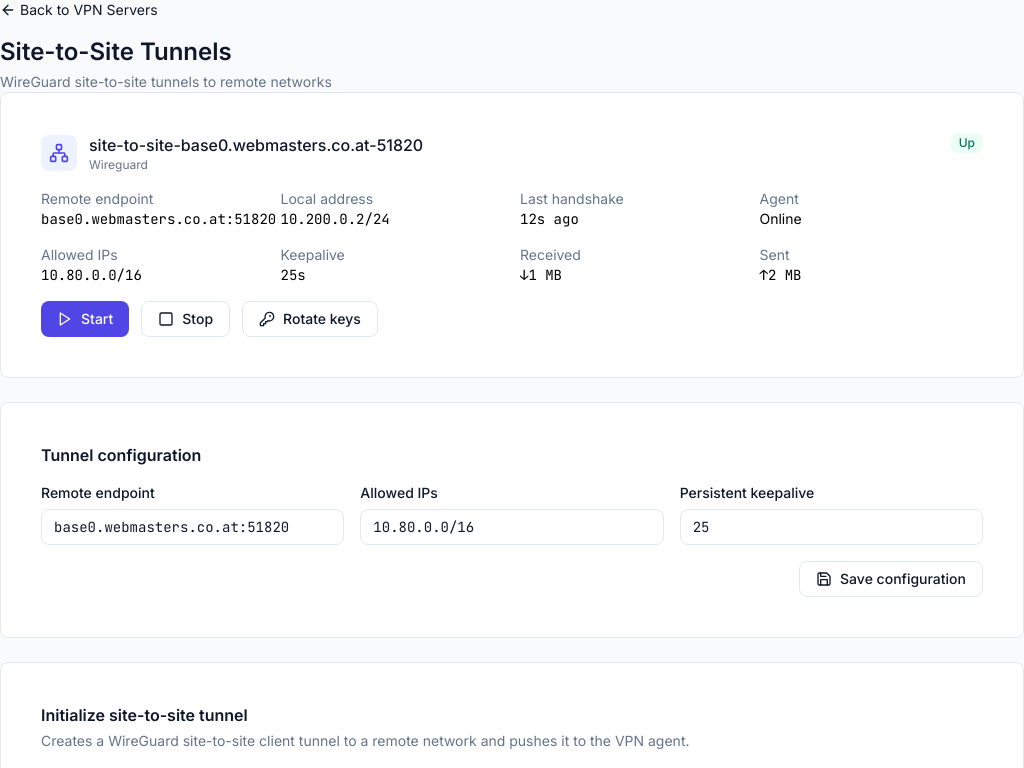
SiteToSite rotate keys › POSTs regenerate and shows the new public key
The image size is (1024, 768).
Expected: the text "site-to-site-base0.webmasters.co.at-51820" is shown, [89, 133, 423, 157]
Click the button "Rotate keys" at (310, 319), box [242, 301, 378, 337]
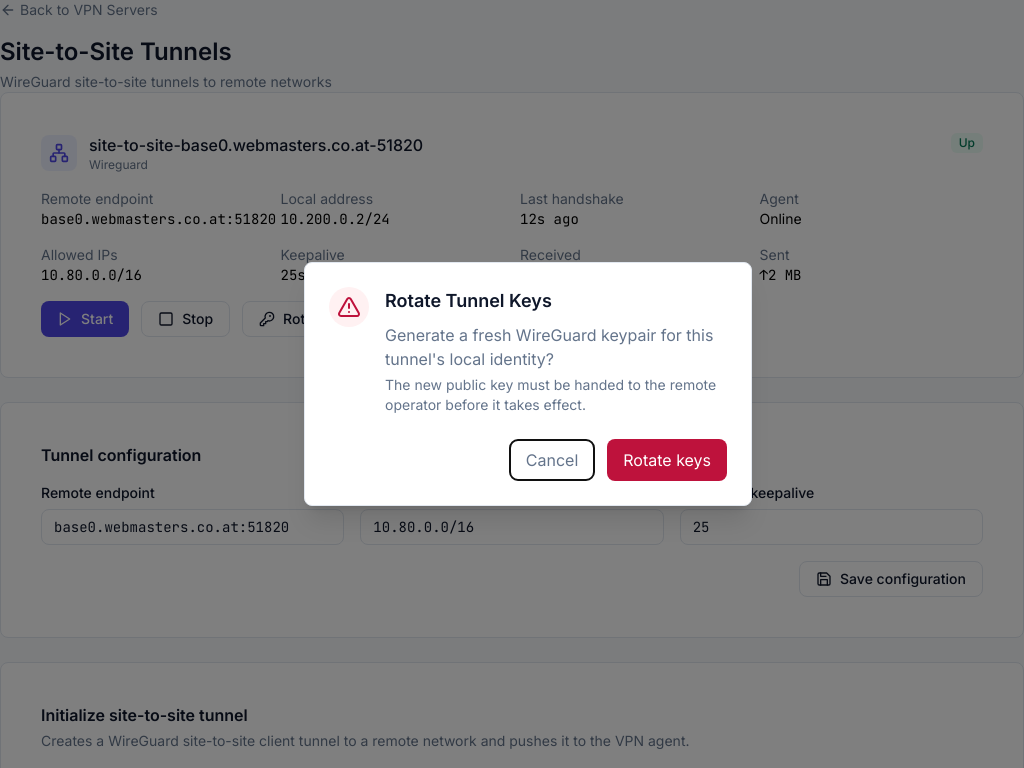
Now the text "handed to the remote operator" is shown, box [385, 376, 716, 413]
Click the button "Rotate keys" at (667, 460), box [607, 439, 727, 481]
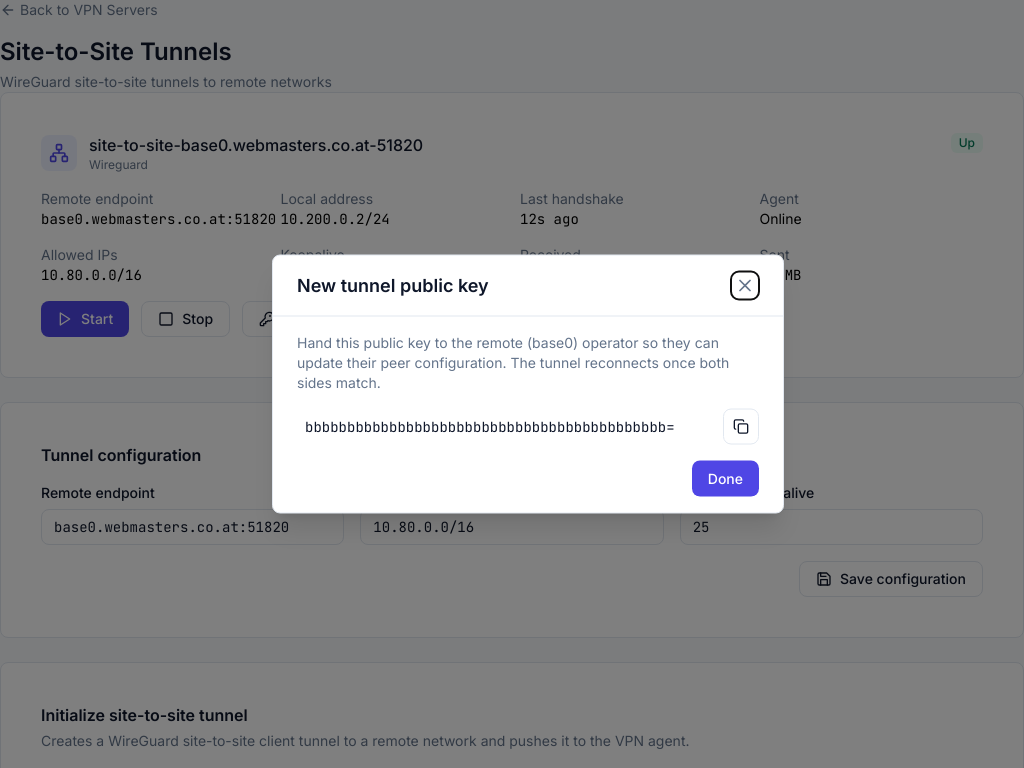
Now the heading "New tunnel public key" is shown, box [297, 272, 489, 300]
Now the text "bbbbbbbbbbbbbbbbbbbbbbbbbbbbbbbbbbbbbbbbbbb=" is shown, box [297, 408, 715, 444]
